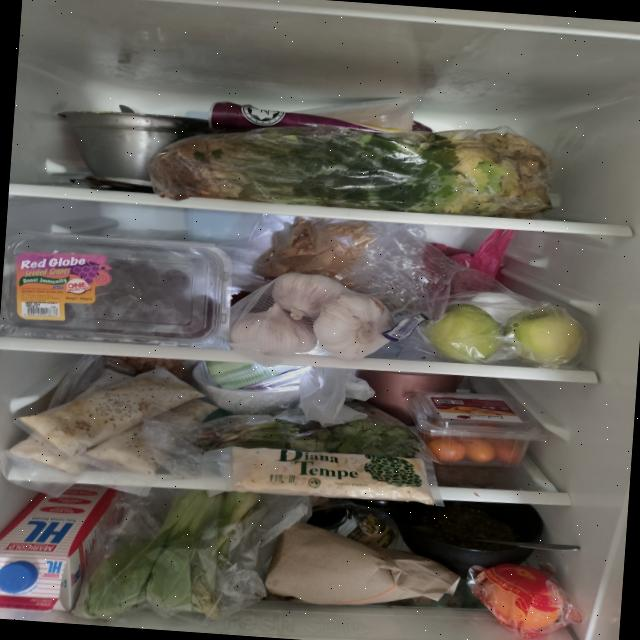apple: (422, 300, 585, 371)
garlic: (229, 268, 399, 364)
grape: (2, 250, 224, 344)
leafy_greens: (154, 108, 556, 222), (223, 394, 422, 458)
orange: (480, 568, 564, 632)
pakchoy: (86, 482, 262, 628)
tempeh: (5, 356, 222, 484), (227, 444, 437, 505)
